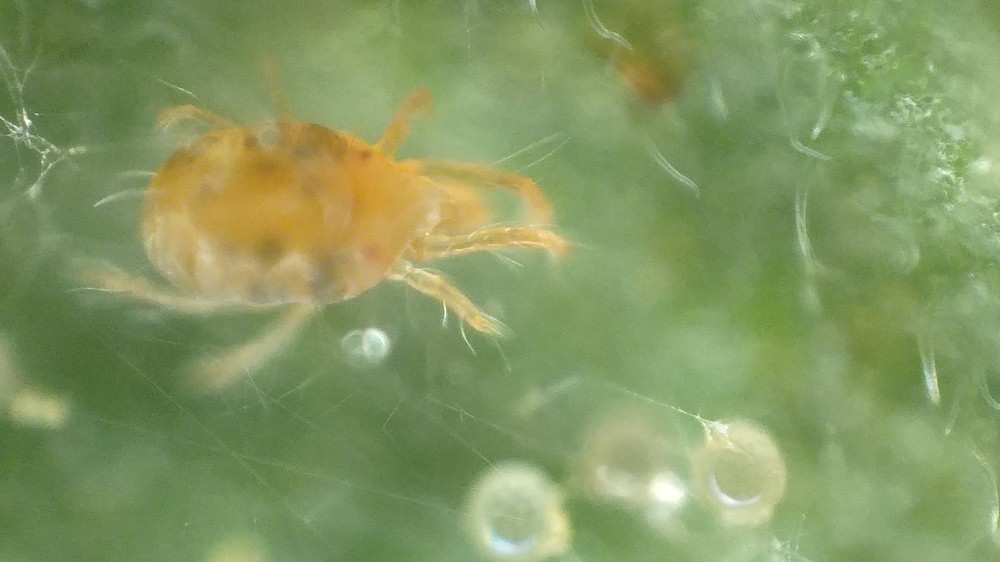Aracnido Rojo: (109, 60, 599, 403)
